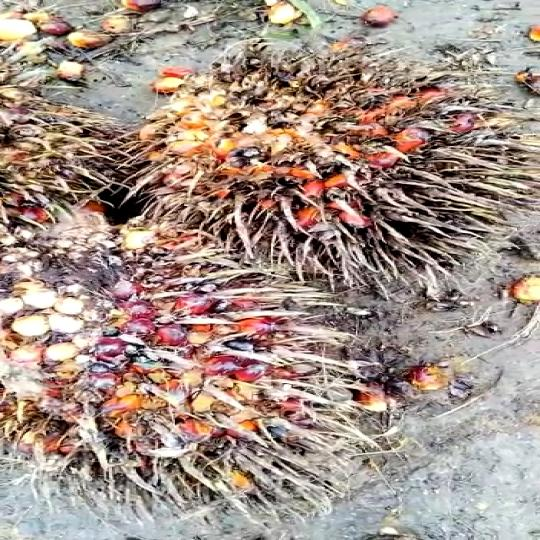terlalu masak: (0, 209, 458, 518), (99, 45, 540, 269)
